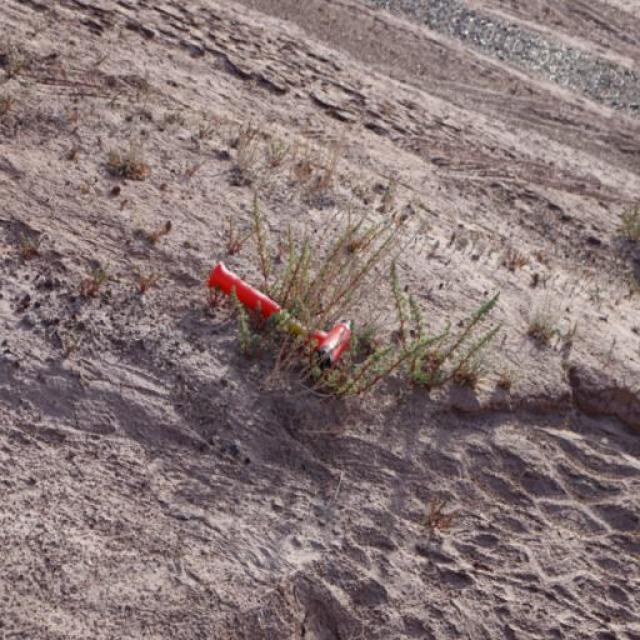mallet: (205, 259, 353, 370)
